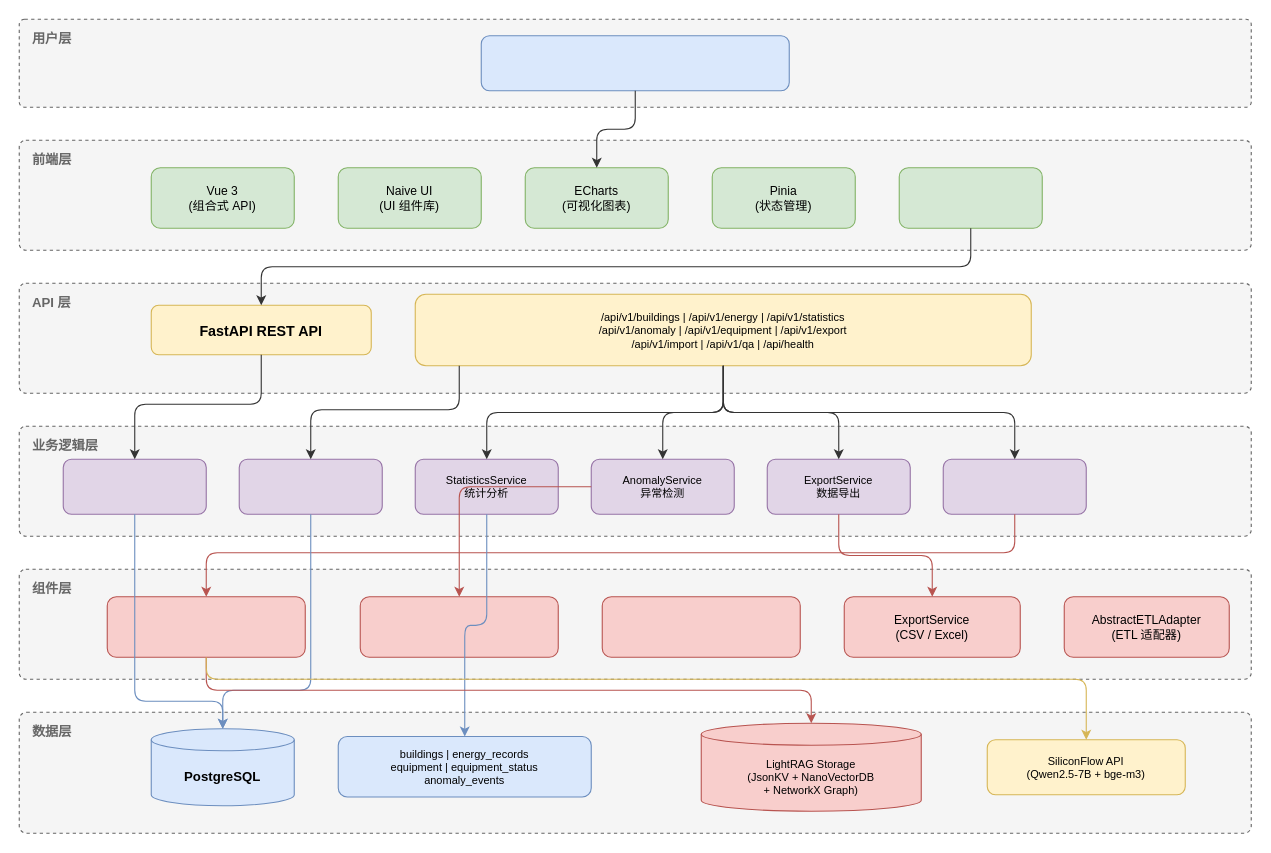
Some shapes in this 1271 by 853 pixel diagram are drawn without their labels. Here are the shapes that lost their labels. From the top down, the box of each, then its label:
(480, 35, 789, 91): Web 浏览器
(898, 167, 1042, 228): Axios (HTTP 客户端)
(62, 458, 206, 514): BuildingService 建筑管理
(238, 458, 382, 514): EnergyService 能耗查询
(942, 458, 1086, 514): QAService 智能问答
(106, 596, 305, 657): LightRAGService (知识图谱 + RAG)
(359, 596, 558, 657): ThresholdDetector (阈值异常检测)
(601, 596, 800, 657): MLDetector (ML 异常检测 - 预留)
